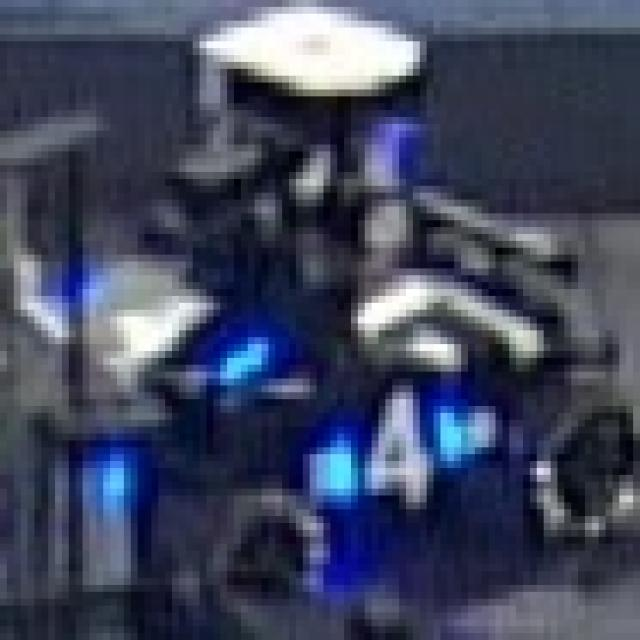B4: (323, 386, 482, 516)
